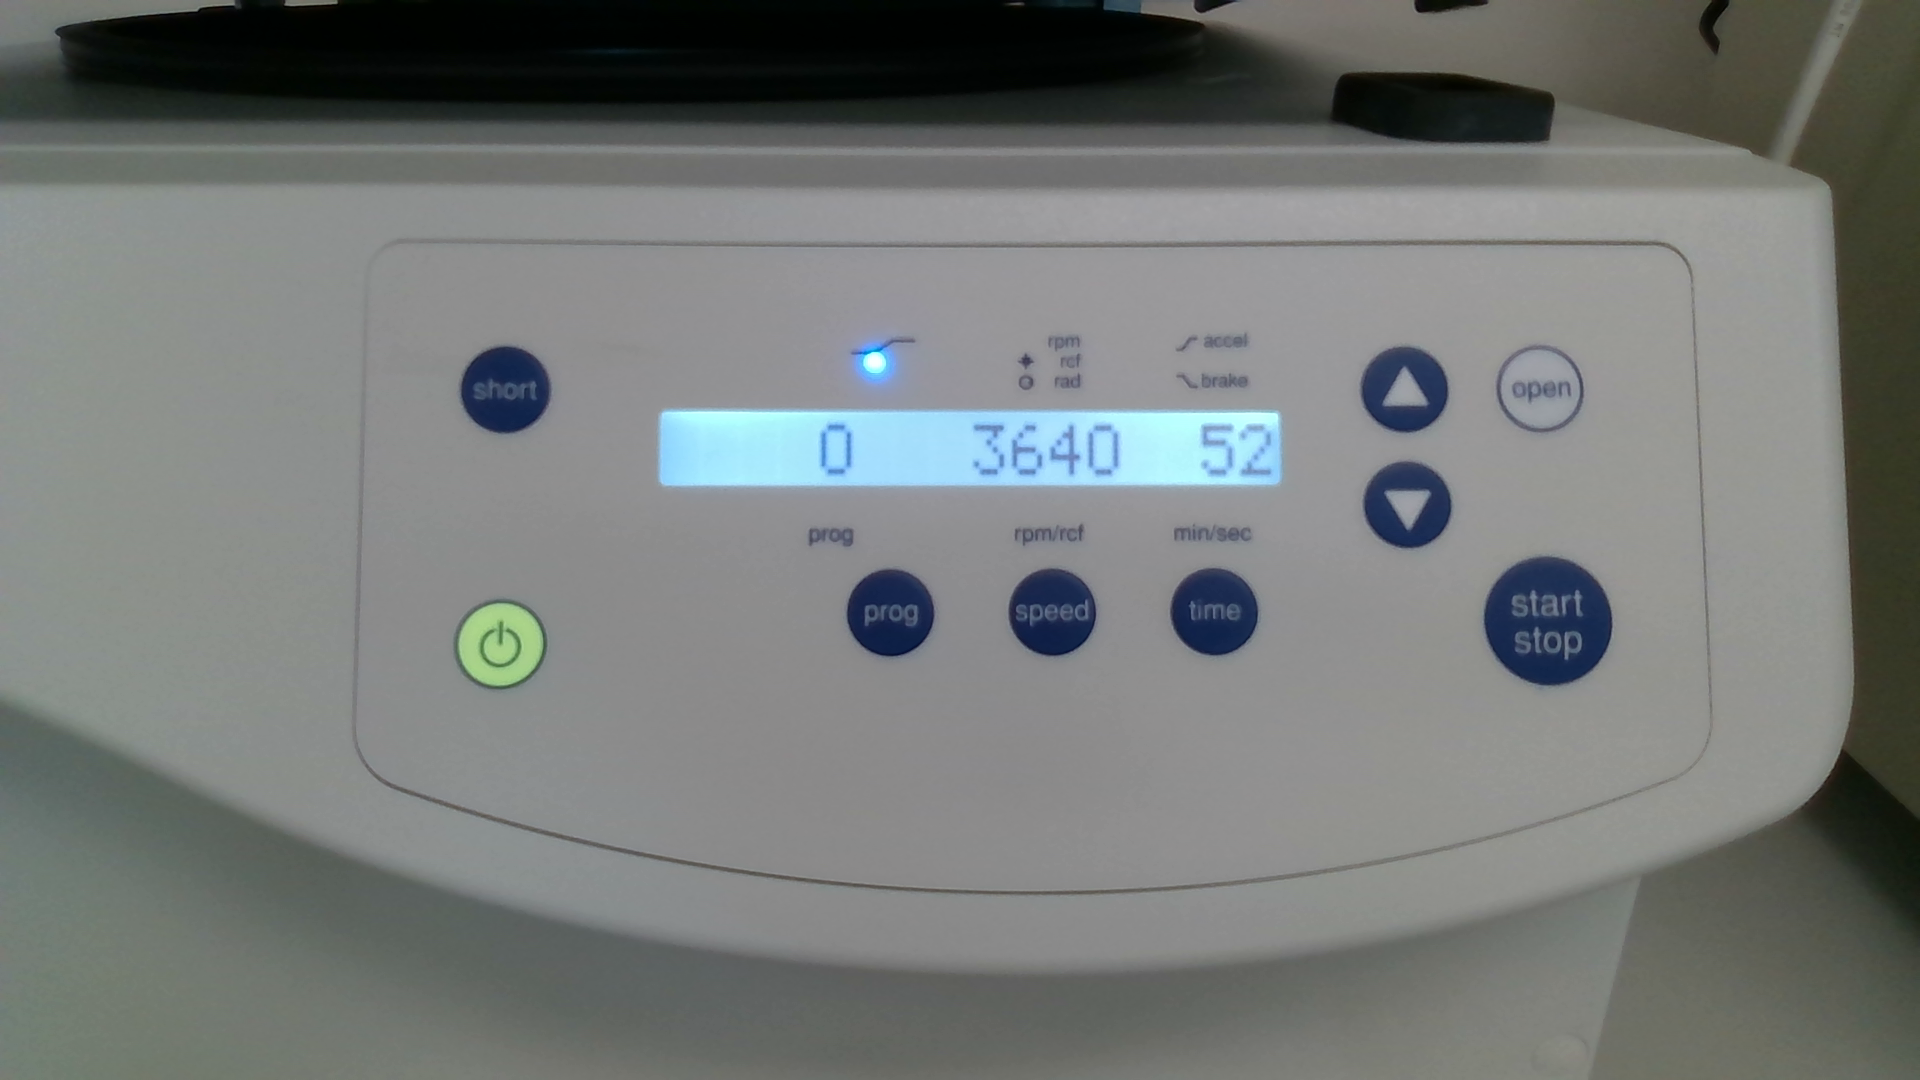0: (1087, 423, 1120, 476), (820, 423, 852, 476)
2: (1240, 425, 1271, 477)
3: (972, 423, 1004, 476)
4: (1048, 423, 1081, 476)
5: (1201, 425, 1233, 477)
6: (1011, 423, 1043, 476)
open_off: (1495, 344, 1585, 433)
power_on: (454, 599, 546, 690)
